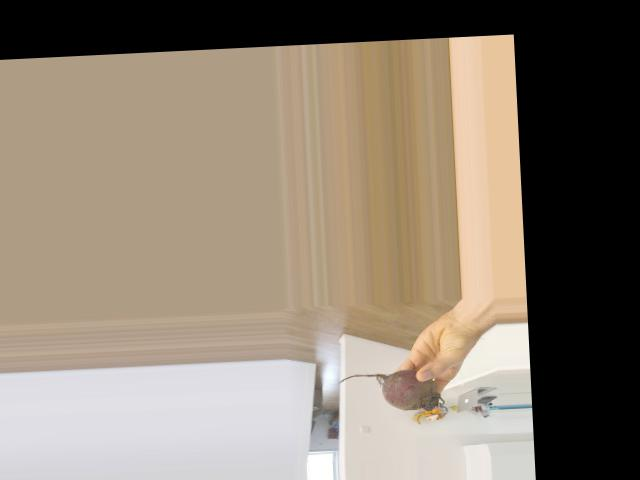beet: (337, 368, 444, 414)
